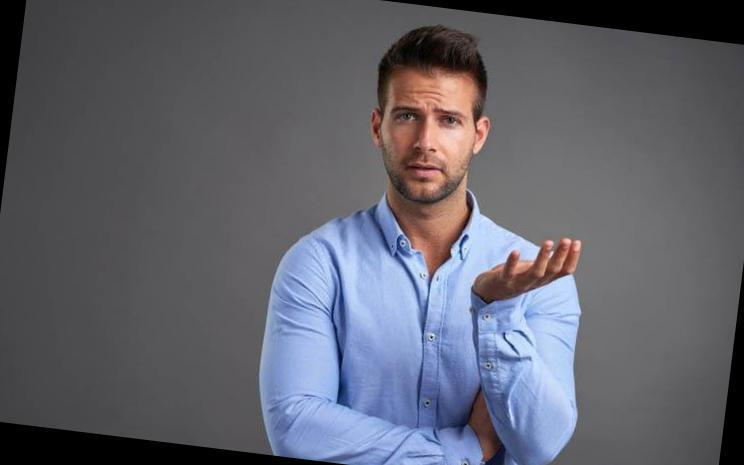Sober: (385, 74, 468, 191)
